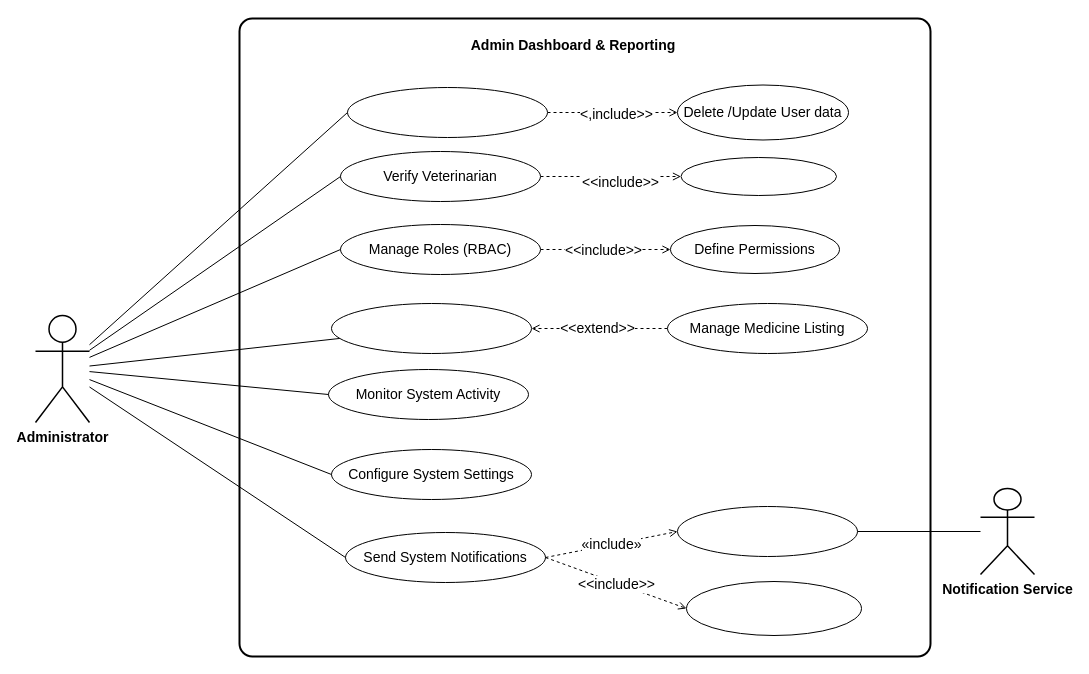
Some shapes in this 1089 by 674 pixel diagram are drawn without their labels. Here are the shapes that lost their labels. From the top down, the centre of each, then its label:
point (447, 112): Manage Users
point (758, 176): Verify Documents
point (431, 328): Approve Medicines
point (767, 531): Send Push Notification
point (774, 608): Send SMS Verification
